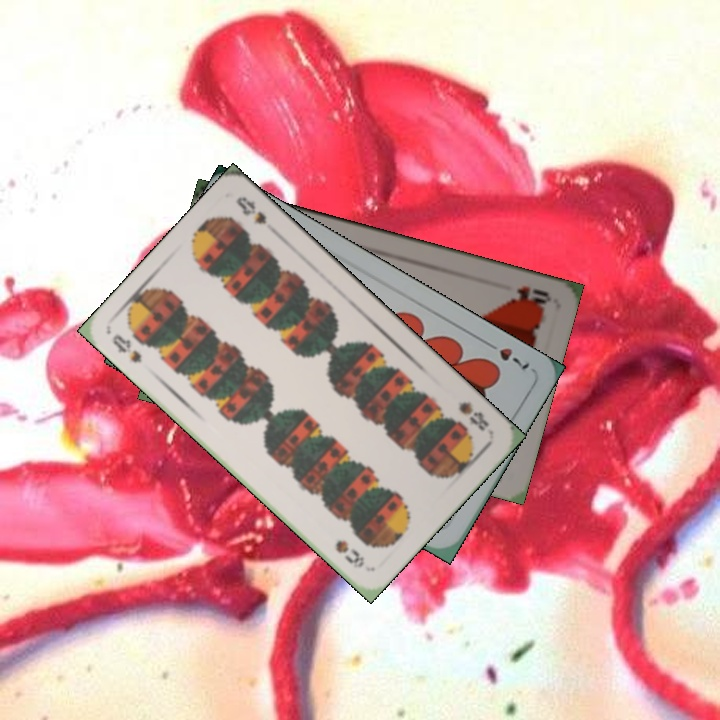H7: (480, 336, 533, 372)
HO: (507, 281, 553, 309)
S8: (454, 397, 492, 434), (108, 330, 145, 365)
